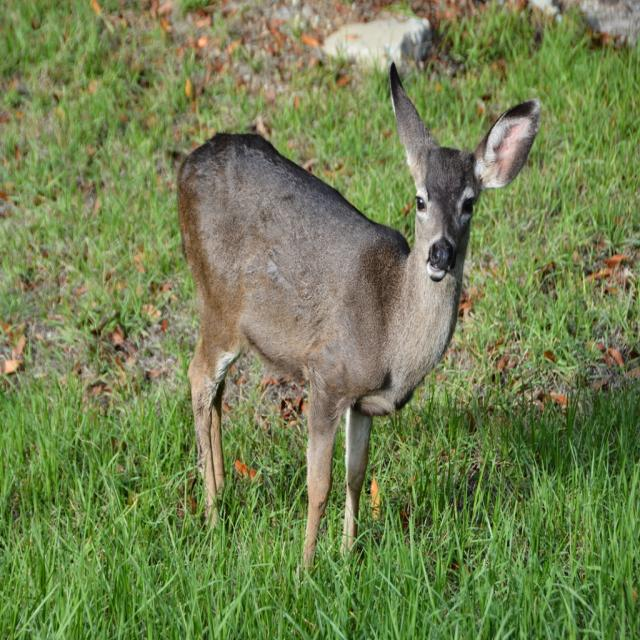Deer: (177, 60, 542, 582)
